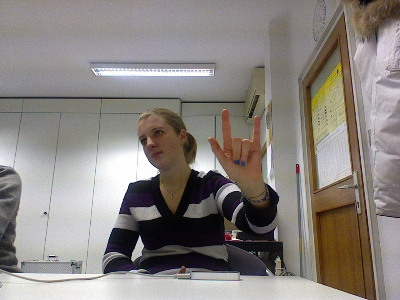我爱你: (207, 108, 263, 184)
